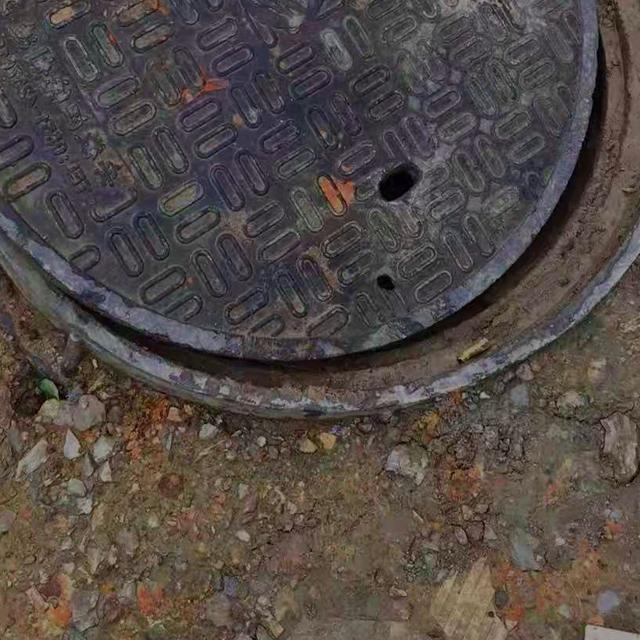uncovered: (0, 0, 640, 417)
